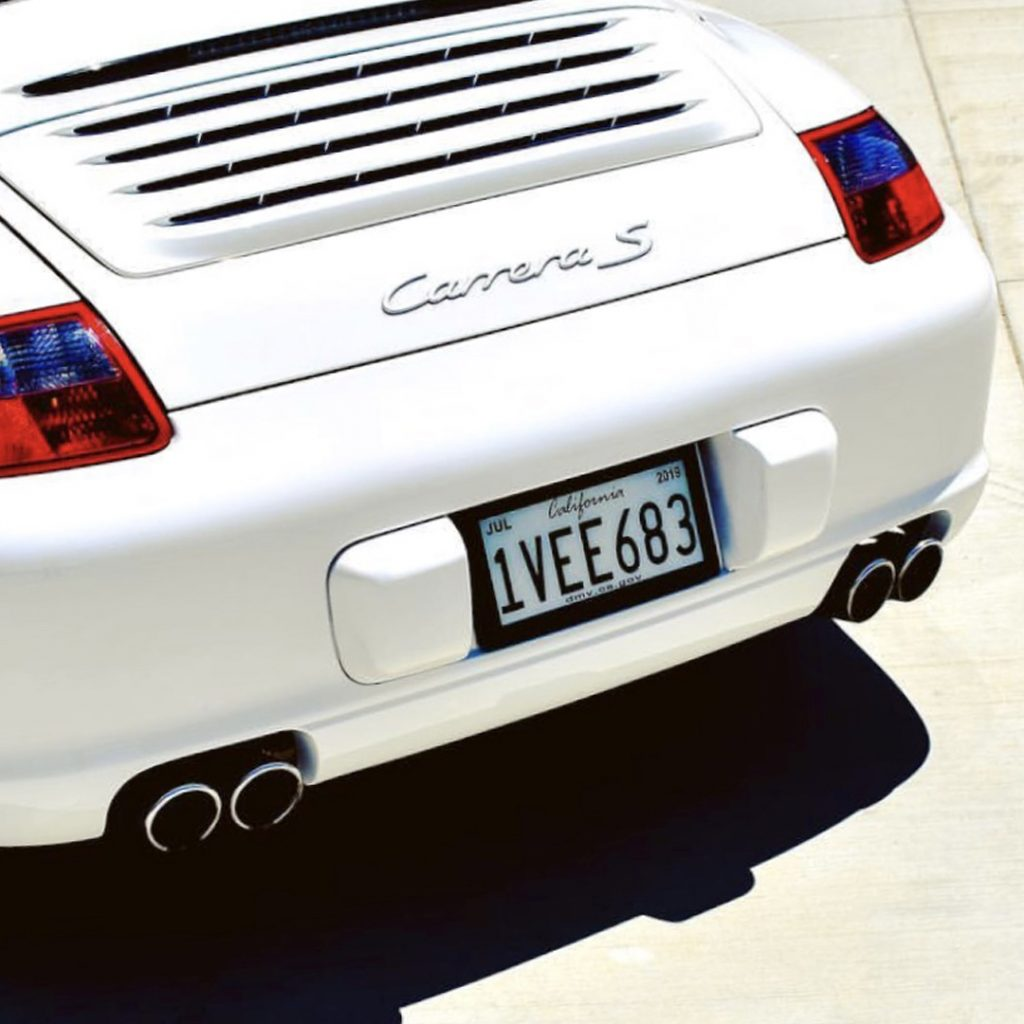license plate: (468, 455, 725, 628)
